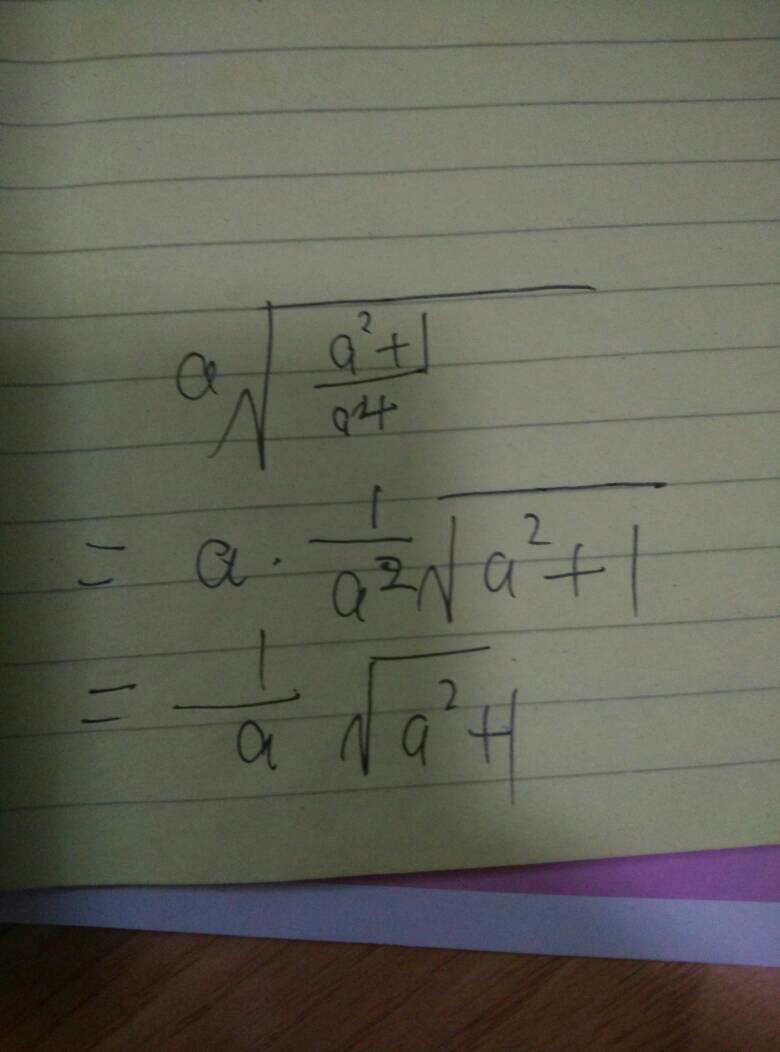division: (297, 374, 440, 401), (183, 693, 309, 721), (304, 530, 419, 555)
sqrt: (209, 282, 619, 464), (407, 471, 664, 627), (331, 648, 542, 789)
square: (424, 670, 467, 720), (519, 508, 554, 549), (377, 552, 407, 591), (350, 303, 383, 336)
